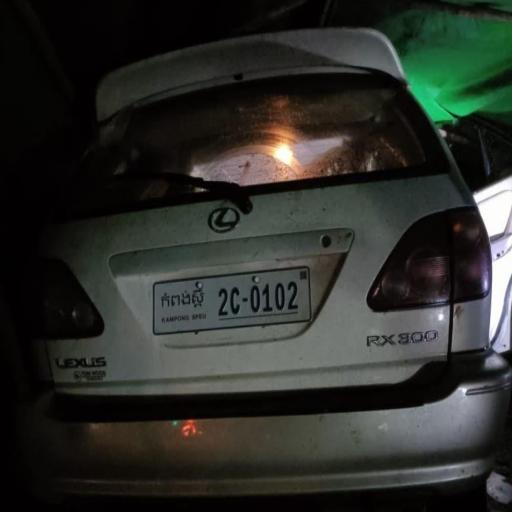Plate Number: (151, 263, 313, 334)
